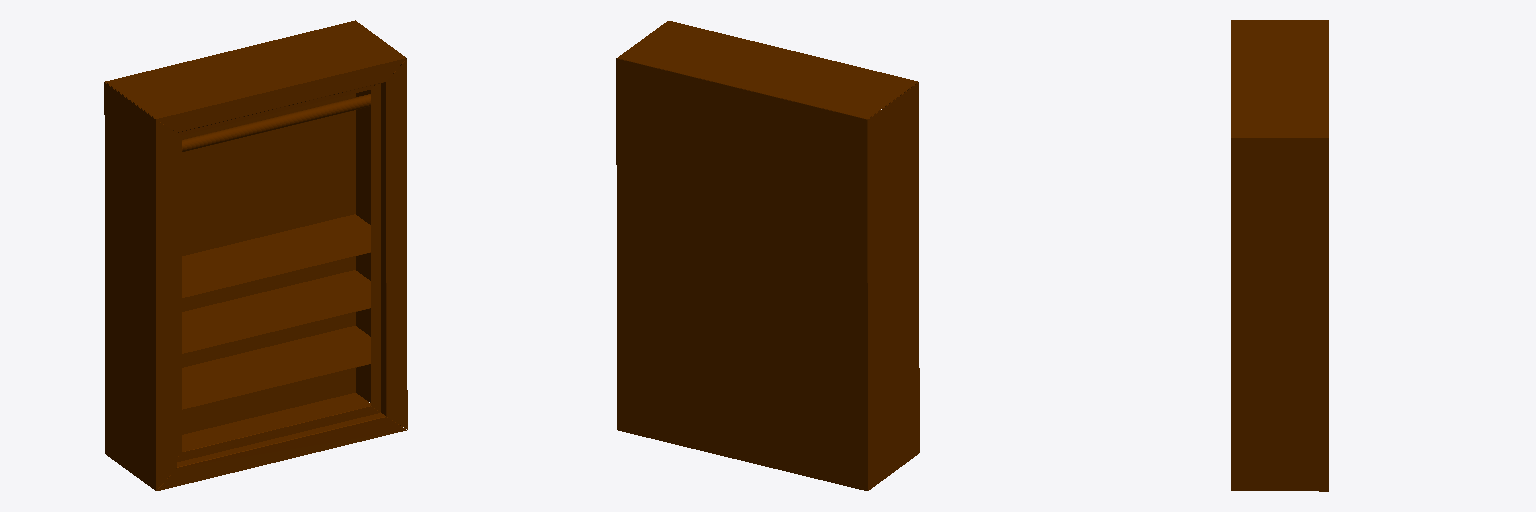
The robot description file, URDF, robot "cupboard_body":
<?xml version="1.0"?>
<robot name="cupboard_body">
<link name="cupboard_body_base_link">
  <inertial>
    <mass value="0.0"/>
    <origin xyz="0 0 0" rpy="1.57 0 0"/>
    <inertia ixx="0.01" ixy="0" ixz="0" iyy="0.01" iyz="0" izz="0.01"/>
  </inertial>

  <visual>
    <origin xyz="0 0 0" rpy="1.57 0 0"/>
    <geometry>
      <mesh filename="package://meshes/cupboard_body.dae" scale="1 0.85 0.85"/>
    </geometry>
    <material name="material_name">
      <color rgba="0.4 0.2 0.0 1.0"/>
    </material>
  </visual>

  <collision>
    <origin xyz="0 0 0" rpy="1.57 0 0"/>
    <geometry>
      <mesh filename="package://meshes/cupboard_body.dae" scale="1 0.85 0.85"/>

      </geometry>
  </collision>
</link>
</robot>

--- Render facts (derived) ---
Views: 3 orthographic renders of the robot side by side, from view 1: azimuth 30°, elevation 25°; view 2: azimuth 150°, elevation 25°; view 3: azimuth 270°, elevation 25°.
Model cupboard_body with 1 links and 0 joints (none), rooted at cupboard_body_base_link, posed all joints at 0.
Links seen in each view (by area): view 1: cupboard_body_base_link; view 2: cupboard_body_base_link; view 3: cupboard_body_base_link.
Boxes of the visible links, box(x1,y1,x2,y2) form: cupboard_body_base_link: box(104, 20, 407, 490); cupboard_body_base_link: box(616, 21, 919, 490); cupboard_body_base_link: box(1231, 20, 1328, 491).
Size in the robot's own frame: 1.21 by 0.429 by 1.7 metres.
Meshes: 1 distinct files referenced, 1 mesh visuals loaded (1 Collada DAE).
